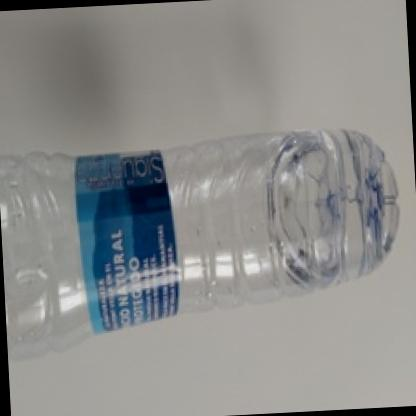plastic_bottles: (0, 125, 406, 365)
